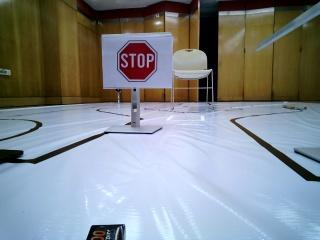stop: (107, 37, 170, 84)
